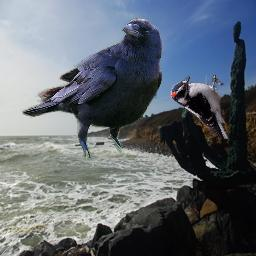Crow: (21, 18, 162, 161)
Woodpecker: (170, 75, 229, 139)
